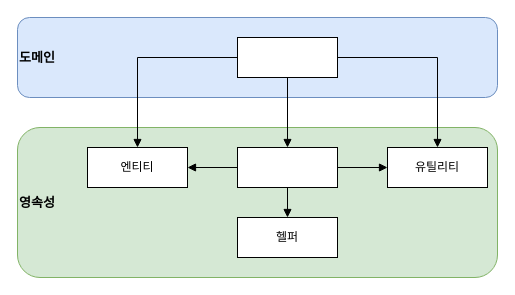
This 515x295 diagram has some shape labels left out. Each missing label, with the centre of its shape:
"리포지터리" belongs at (287,167).
"서비스" belongs at (287,57).
